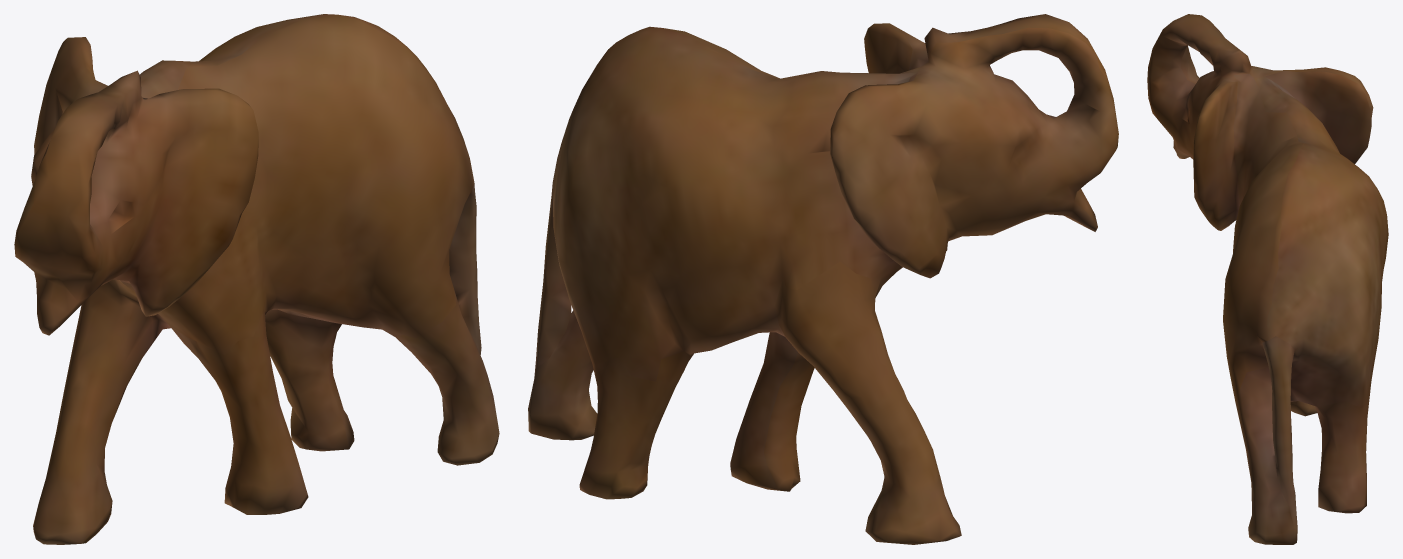
The model's file is carved_wooden_elephant.glb.
The picture shows the model from 3 angles, left to right: view 1: azimuth 30°, elevation 25°; view 2: azimuth 150°, elevation 25°; view 3: azimuth 270°, elevation 25°; orthographic projection. The views are drawn at different scales.
Visible parts, largest first — view 1: carved_wooden_elephant; view 2: carved_wooden_elephant; view 3: carved_wooden_elephant.
Part boxes in pixels (bbox=[...]): carved_wooden_elephant: bbox=[14, 14, 499, 544]; carved_wooden_elephant: bbox=[528, 14, 1118, 544]; carved_wooden_elephant: bbox=[1147, 14, 1388, 544].
Bounding box in the file's own units: 0.1092 × 0.0962 × 0.0576.
1 material, 1 textured.
